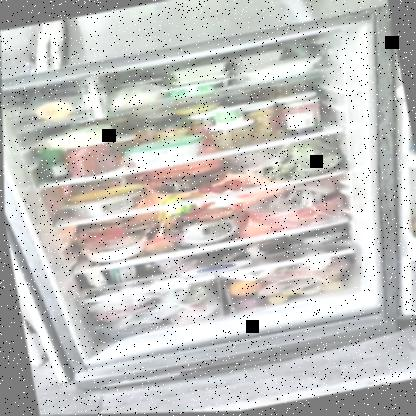banana: (66, 181, 149, 204)
cheese: (129, 134, 204, 166), (45, 127, 105, 149)
cream_cheese: (162, 76, 234, 98)
lemon: (321, 280, 348, 294), (265, 292, 288, 305)
lettuce: (253, 143, 339, 185)
mineral_water: (41, 145, 72, 183)
orange: (228, 278, 263, 298)
tomato: (80, 224, 129, 248), (198, 177, 250, 197)
tomato_paste: (66, 137, 119, 176)
yoghurt: (208, 104, 244, 129)
